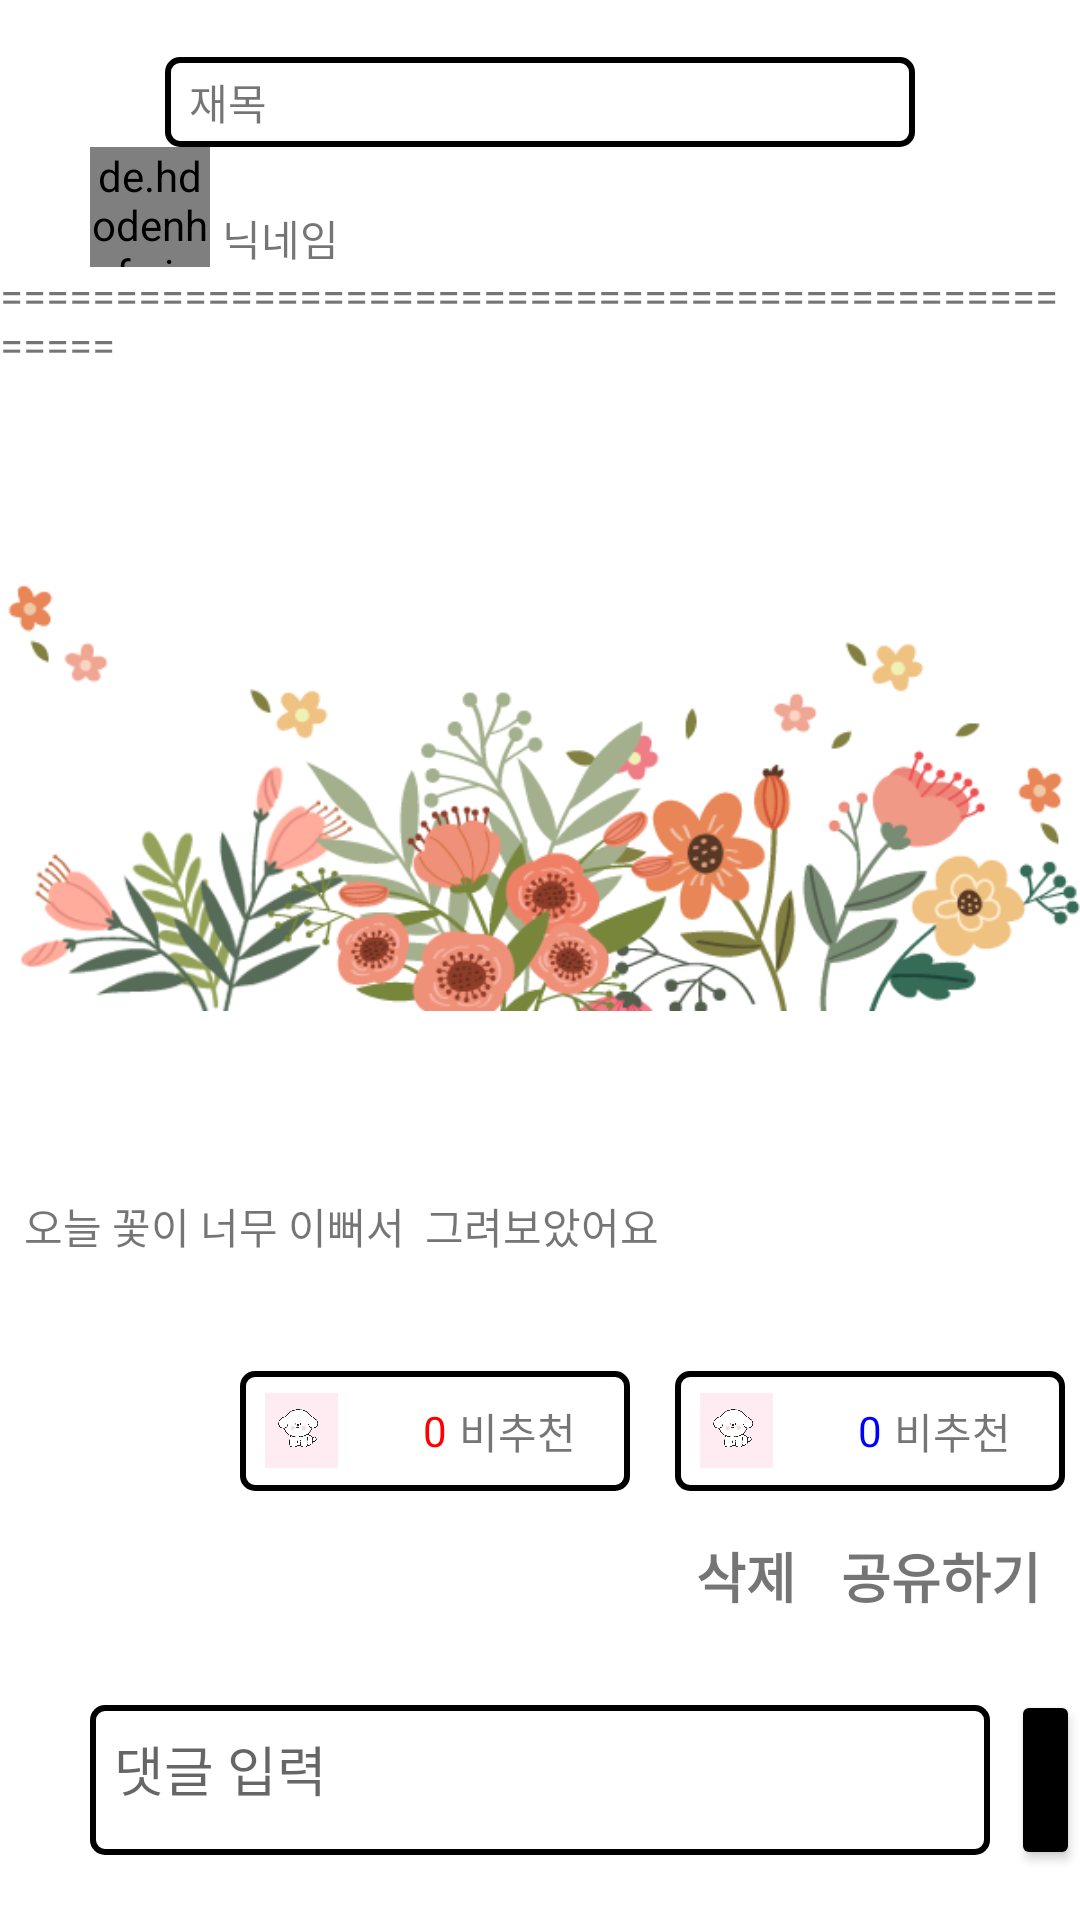

Named icons in this screenshot (1080 × 1920) and their centers, [x,y]:
bichon like: [301,1430], [736,1430]
